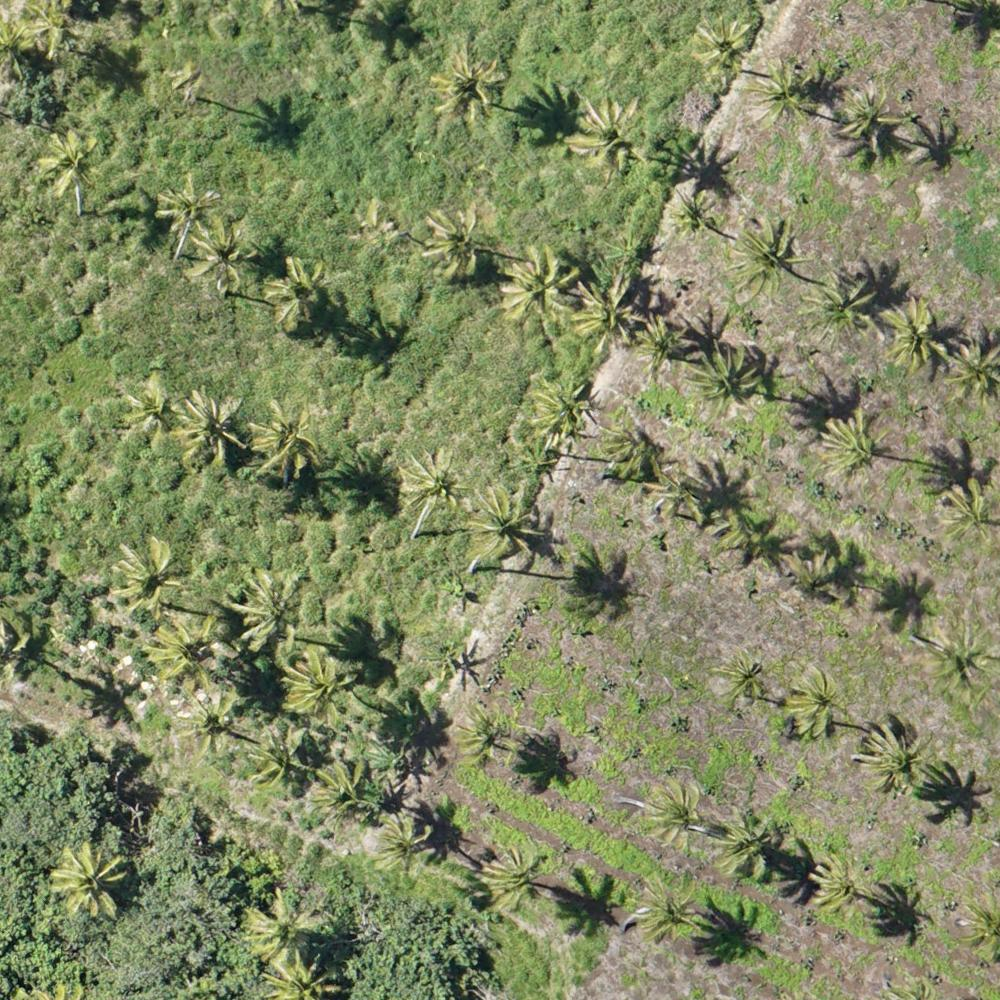not plam: (8, 381, 100, 467), (6, 491, 88, 574), (376, 921, 453, 995), (326, 376, 406, 447), (922, 193, 997, 268), (431, 341, 504, 416), (775, 928, 850, 1000), (6, 298, 77, 374), (110, 281, 185, 352), (211, 1, 286, 72), (9, 744, 81, 817), (547, 642, 622, 711), (658, 567, 731, 637), (341, 109, 413, 179), (574, 1, 648, 68), (428, 589, 500, 657), (158, 824, 231, 891), (131, 923, 204, 986)
